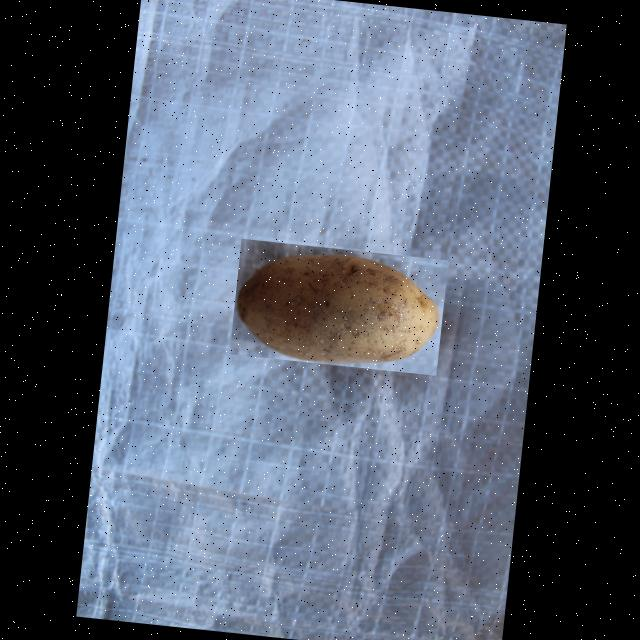Diseased-fungal potato: (228, 238, 447, 376)
